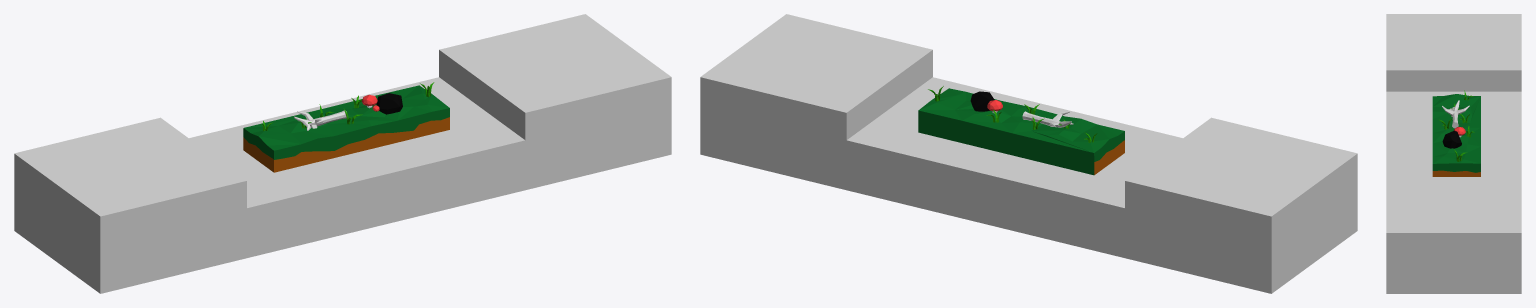
Rendered from Easy_Obstacle_Forest_1.fbx.
The picture shows the model from 3 angles, left to right: view 1: azimuth 30°, elevation 25°; view 2: azimuth 150°, elevation 25°; view 3: azimuth 270°, elevation 25°; orthographic projection. The views are drawn at different scales.
Visible parts, largest first — view 1: Cube, Icosphere.002, Snow Long Snow Tree.002; view 2: Cube, Icosphere.002; view 3: Cube, Icosphere.002, Snow Long Snow Tree.002.
Part boxes in pixels (left/top/right/bottom): Cube: left=14, top=14, right=671, bottom=293; Icosphere.002: left=243, top=82, right=449, bottom=172; Snow Long Snow Tree.002: left=294, top=110, right=346, bottom=130; Cube: left=700, top=14, right=1357, bottom=293; Icosphere.002: left=918, top=86, right=1124, bottom=175; Cube: left=1386, top=14, right=1521, bottom=293; Icosphere.002: left=1432, top=90, right=1480, bottom=176; Snow Long Snow Tree.002: left=1442, top=100, right=1469, bottom=128.
Bounding box in the file's own units: 10231 × 1504 × 2676.
